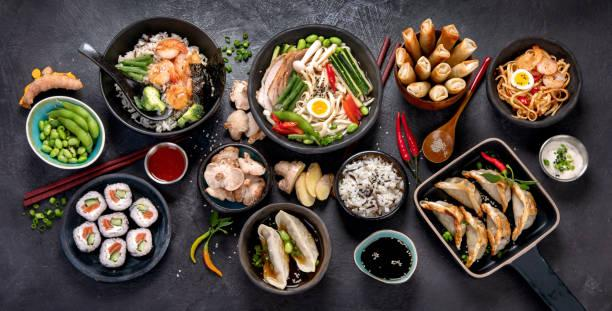Braised Crucian Carp: (414, 137, 560, 280), (246, 23, 381, 156), (96, 16, 224, 138), (58, 172, 170, 282), (237, 202, 332, 295), (486, 37, 581, 129), (394, 26, 477, 110)
